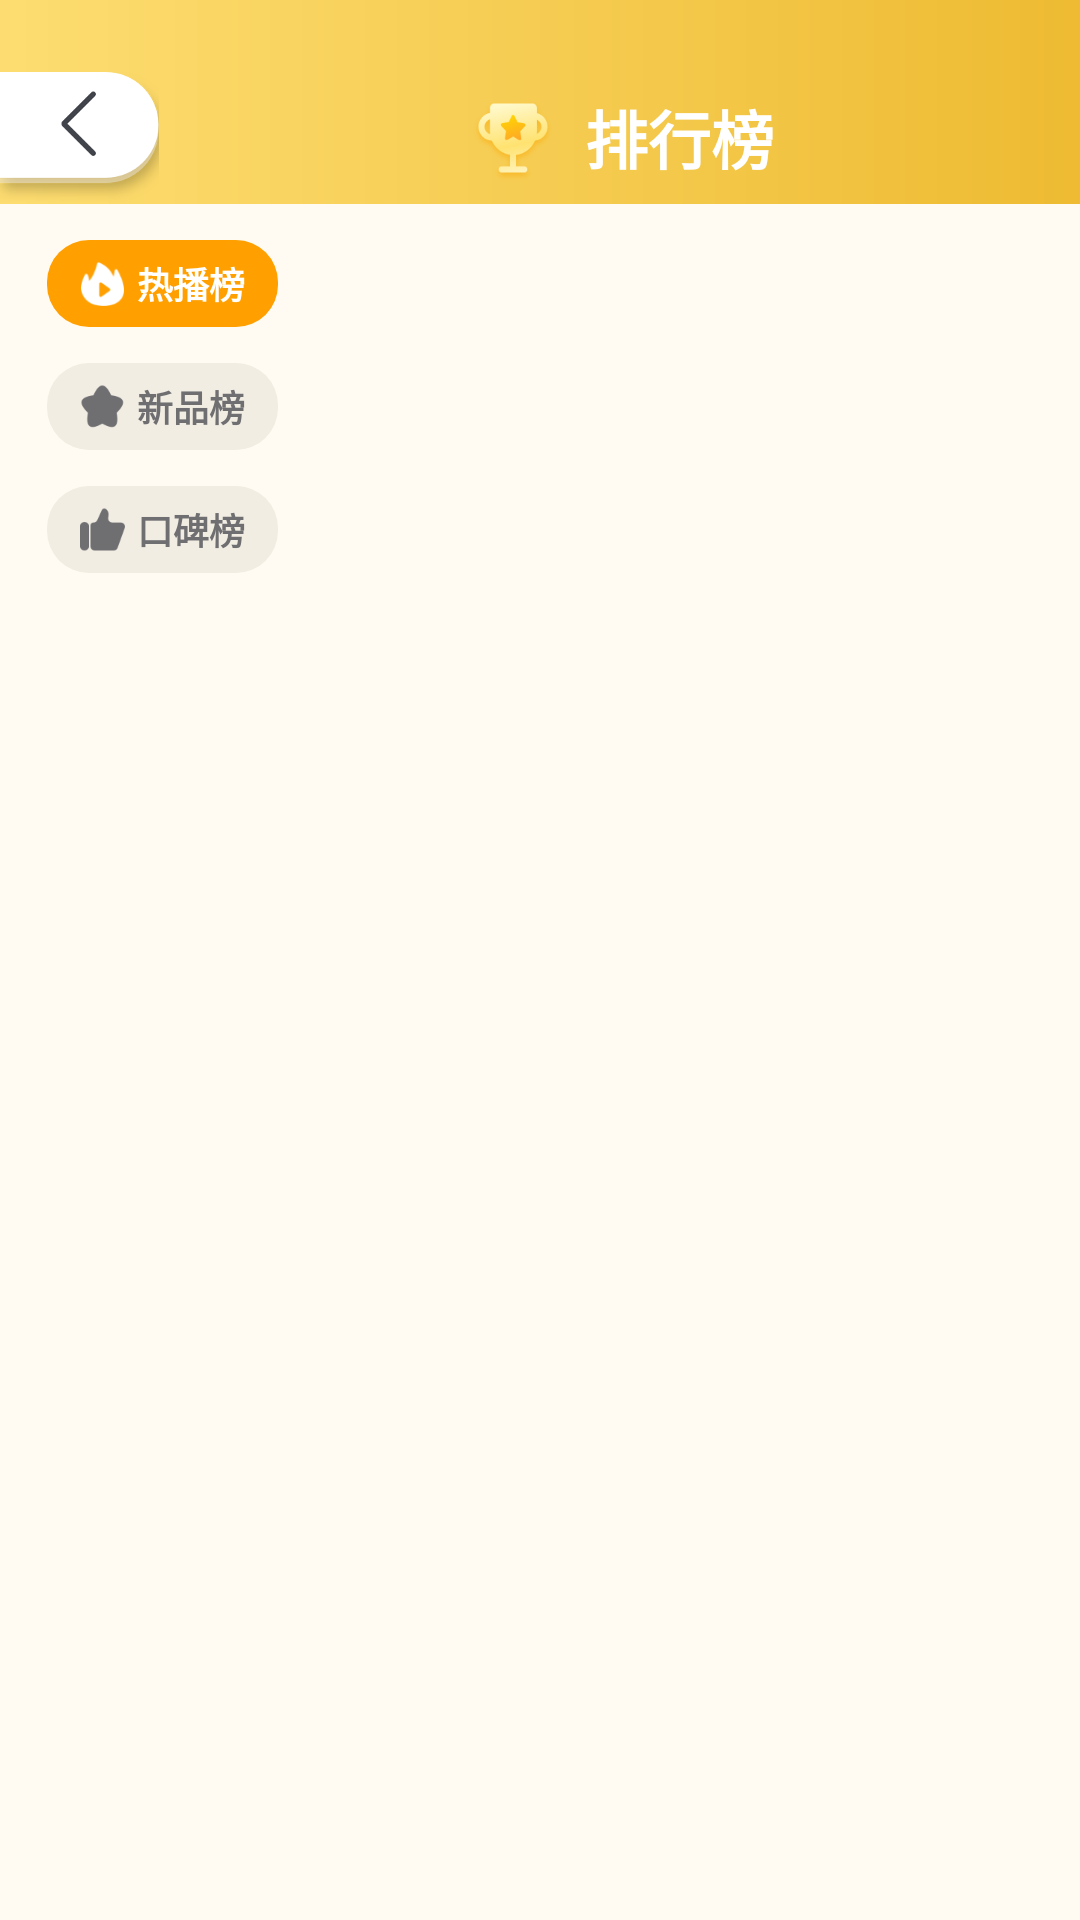

Point at icon controls on the screen. Image size 1080w x 1920h, points as (x,y).
back: (79,131)
rank: (512,139)
rank top evaluate: (102,529)
